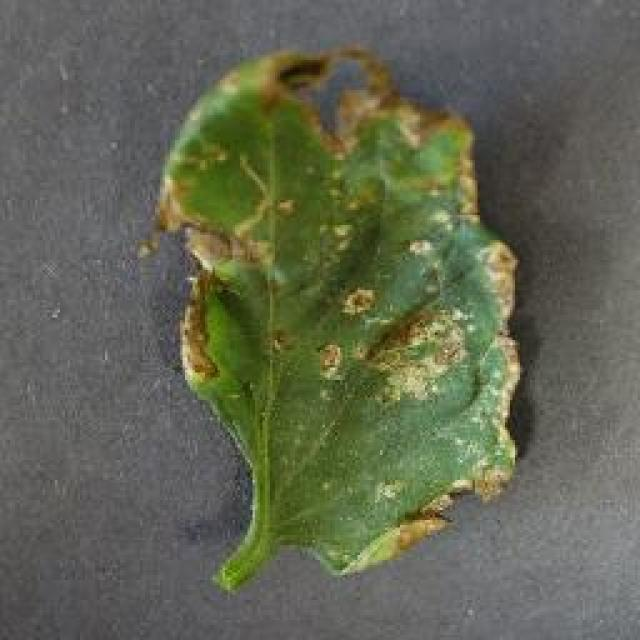bacterial spot: (144, 53, 526, 589)
